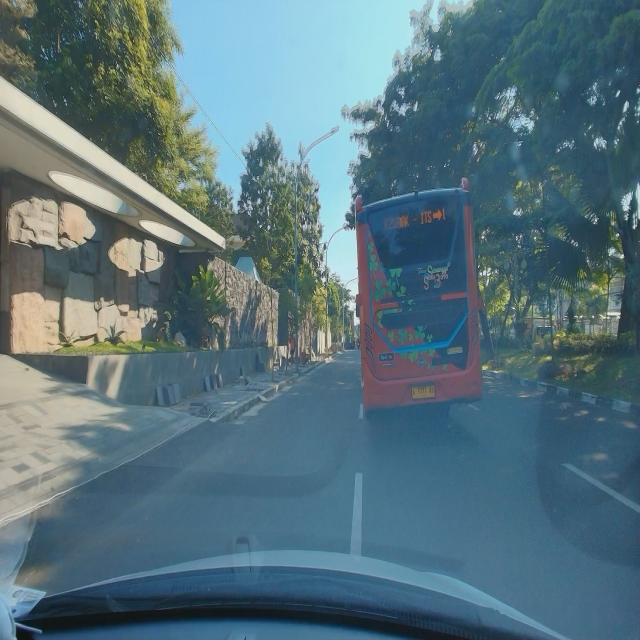bus: (352, 177, 484, 424)
license-plate: (411, 384, 436, 400)
